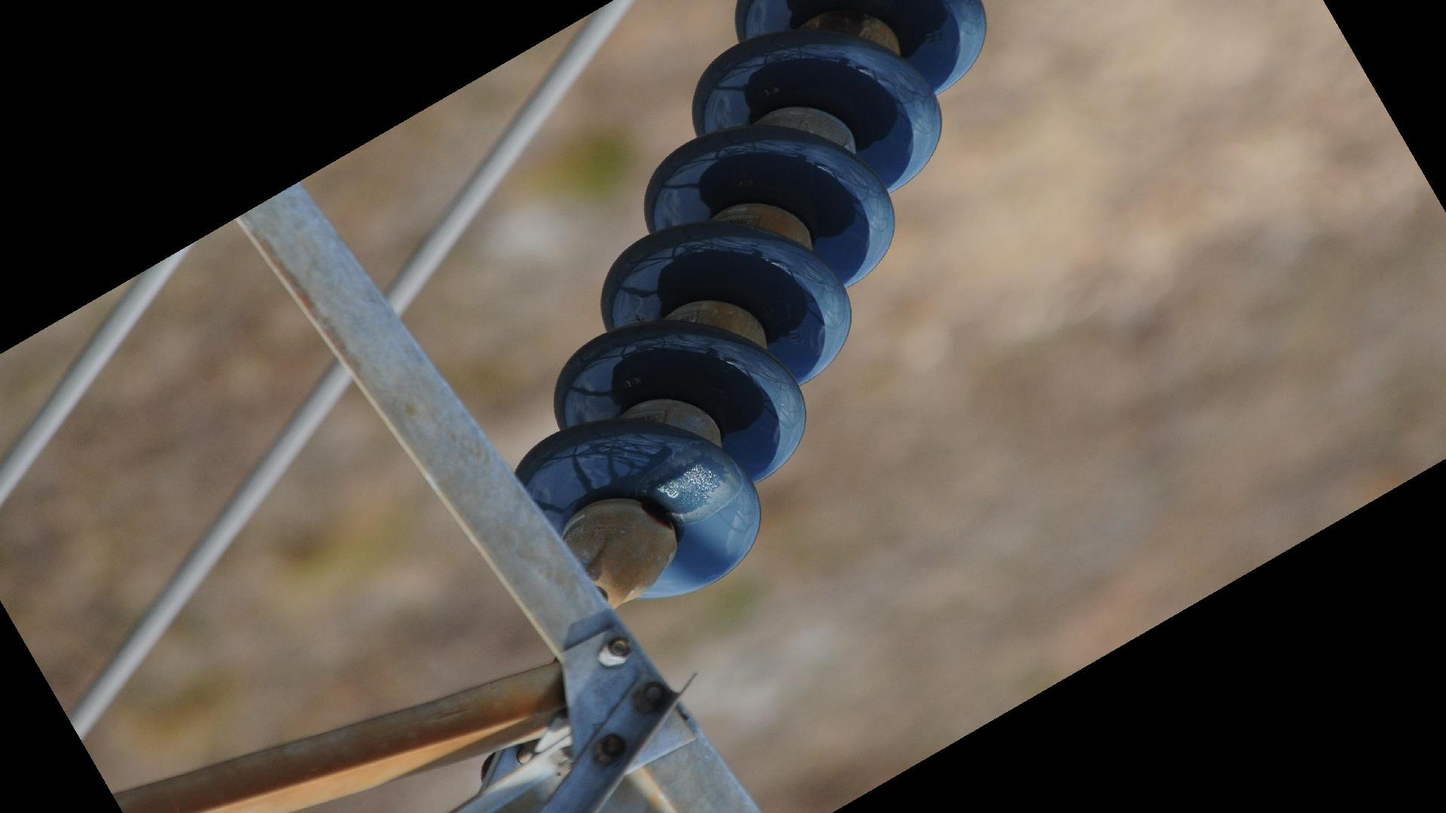insulator: (506, 1, 992, 604)
insulator_flashover: (636, 447, 733, 520)
